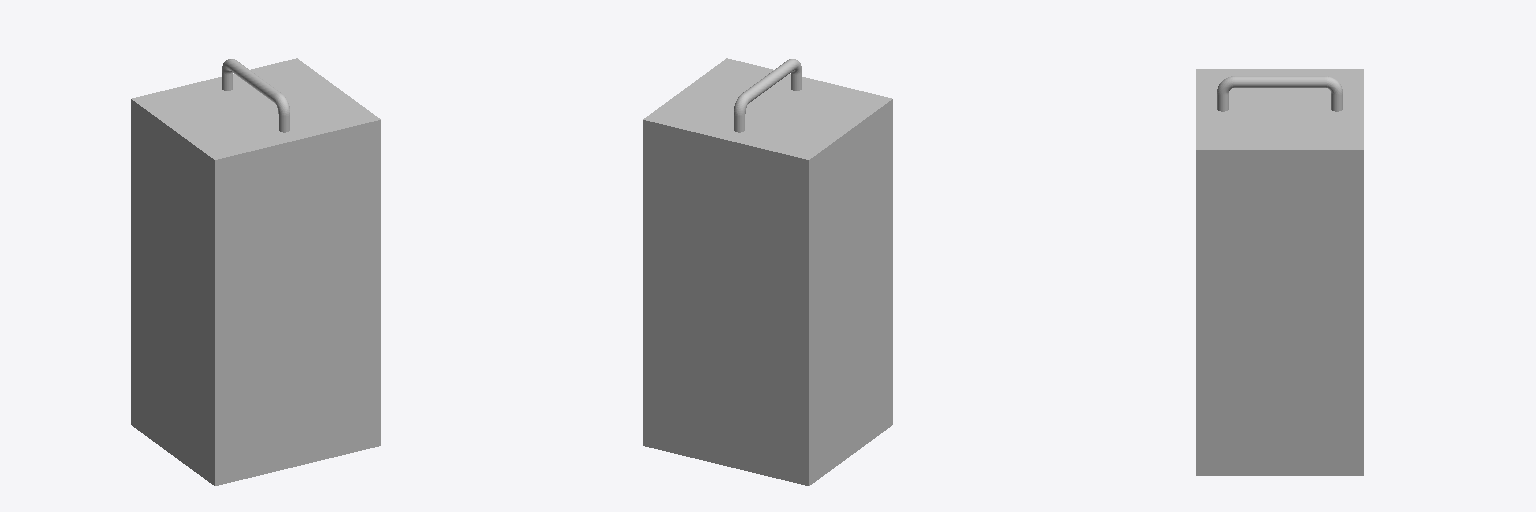
File: Part Studio 1.obj
3 views of the same model, side by side, from view 1: azimuth 30°, elevation 25°; view 2: azimuth 150°, elevation 25°; view 3: azimuth 270°, elevation 25° (orthographic).
Parts seen in each view (by area): view 1: mesh9, mesh7, mesh5, mesh2; view 2: mesh10, mesh7, mesh5, mesh2; view 3: mesh6, mesh5, mesh2.
Boxes of the visible parts, box(x1,y1,x2,y2) form: mesh9: box(215, 120, 380, 485); mesh7: box(131, 99, 214, 485); mesh5: box(132, 58, 380, 159); mesh2: box(228, 60, 280, 101); mesh10: box(643, 120, 808, 485); mesh7: box(809, 99, 892, 485); mesh5: box(643, 58, 891, 159); mesh2: box(743, 60, 795, 101); mesh6: box(1196, 150, 1363, 475); mesh5: box(1196, 69, 1363, 149); mesh2: box(1235, 76, 1324, 87).
Bounding box in the file's own units: 0.16 × 0.33 × 0.14.